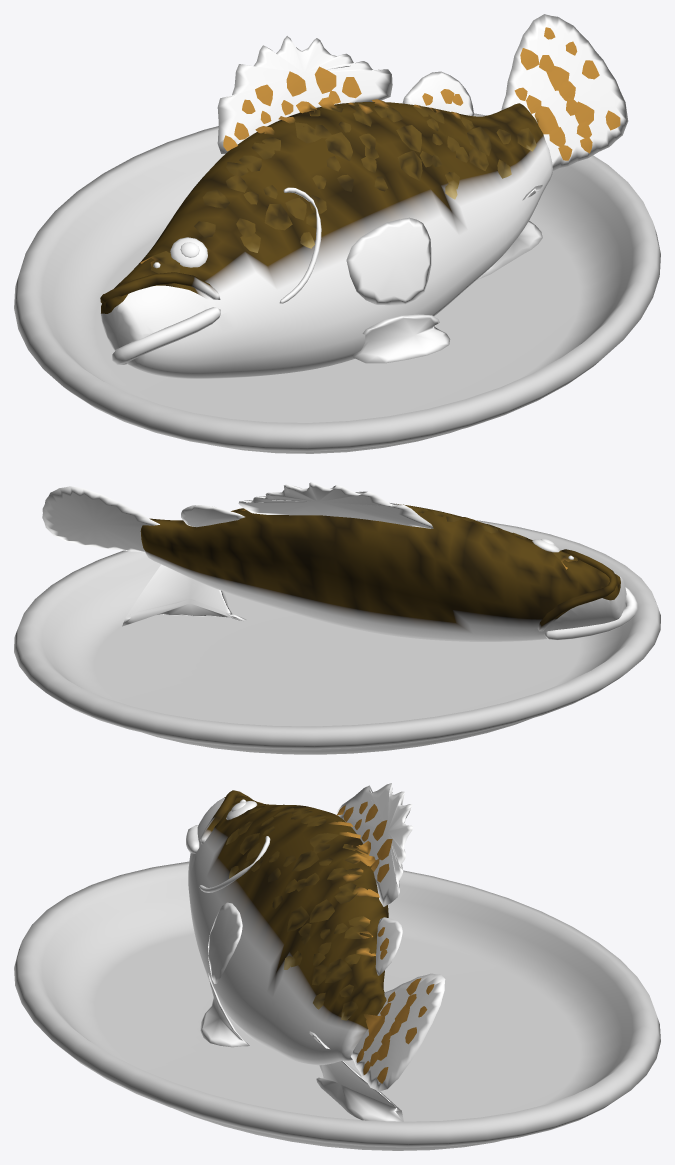
File: SM_mandarin_fish.fbx
3 views of the same model, one above another, from view 1: azimuth 30°, elevation 25°; view 2: azimuth 150°, elevation 25°; view 3: azimuth 270°, elevation 25° (orthographic). The views are drawn at different scales.
Visible parts, largest first — view 1: SM_mandarin_fish; view 2: SM_mandarin_fish; view 3: SM_mandarin_fish.
Part boxes in pixels (box(x1,y1,x2,y2)): SM_mandarin_fish: box(14, 14, 660, 453); SM_mandarin_fish: box(14, 482, 660, 754); SM_mandarin_fish: box(14, 783, 660, 1150).
Size of the model in its own units: 0.2845 by 0.1178 by 0.2775.
